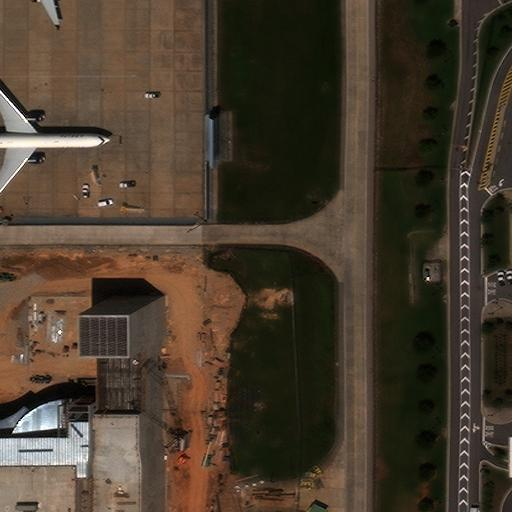Large Civil Transport: (0, 82, 116, 203), (9, 0, 86, 26)
